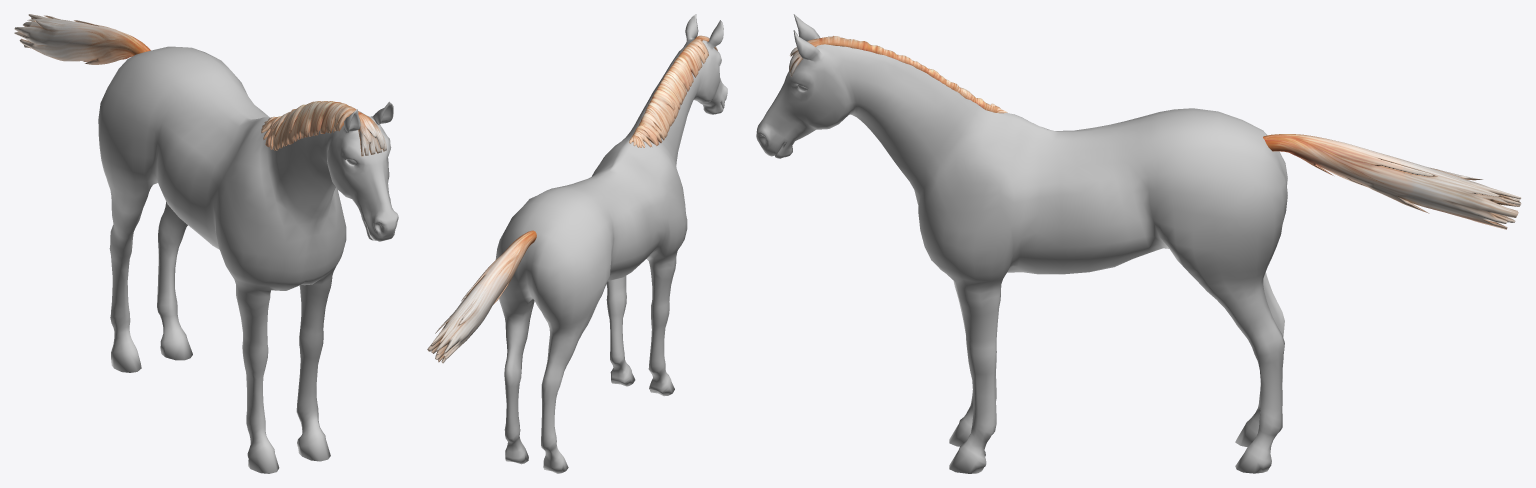
File: star-stable-sso-english-thouroughbred-sabino.fbx
The picture shows the model from 3 angles, left to right: view 1: azimuth 30°, elevation 25°; view 2: azimuth 150°, elevation 25°; view 3: azimuth 270°, elevation 25°; orthographic projection. The views are drawn at different scales.
Visible parts, largest first — view 1: mesh_GH56_Body_GH51_Body_02_0, mesh_GH56_Hair_Material #3138_0; view 2: mesh_GH56_Body_GH51_Body_02_0, mesh_GH56_Hair_Material #3138_0; view 3: mesh_GH56_Body_GH51_Body_02_0, mesh_GH56_Hair_Material #3138_0.
Boxes of the visible parts, box(x1,y1,x2,y2) form: mesh_GH56_Body_GH51_Body_02_0: box(98, 46, 398, 473); mesh_GH56_Hair_Material #3138_0: box(14, 14, 386, 156); mesh_GH56_Body_GH51_Body_02_0: box(495, 14, 727, 473); mesh_GH56_Hair_Material #3138_0: box(427, 35, 717, 363); mesh_GH56_Body_GH51_Body_02_0: box(756, 14, 1287, 473); mesh_GH56_Hair_Material #3138_0: box(789, 36, 1521, 229).
Bounding box in the file's own units: 69.45 × 227 × 363.
